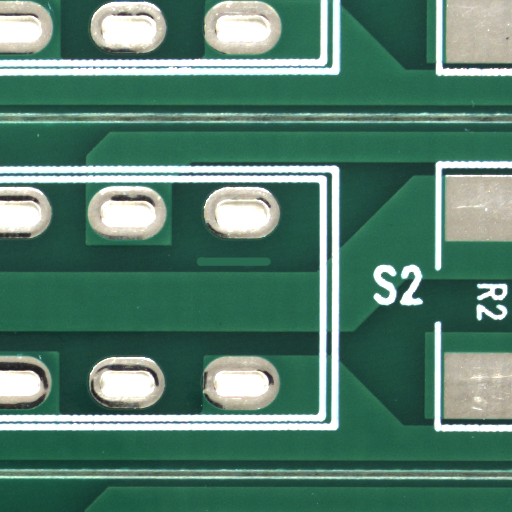Spurious_copper: (233, 260, 307, 274)
